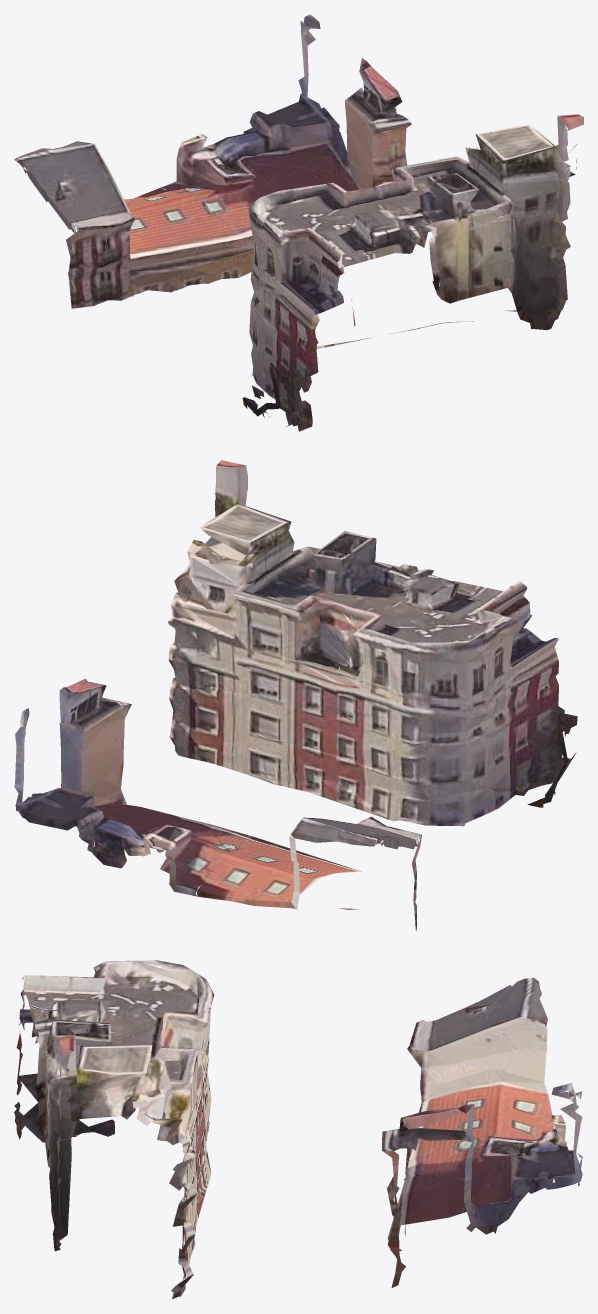
The picture shows the model from 3 angles, top to bottom: view 1: azimuth 30°, elevation 25°; view 2: azimuth 150°, elevation 25°; view 3: azimuth 270°, elevation 25°; orthographic projection. The views are drawn at different scales.
Parts seen in each view (by area): view 1: Mesh_0; view 2: Mesh_0; view 3: Mesh_0.
Part boxes in pixels (x1,y1,x2,y2): Mesh_0: (14,14,583,431); Mesh_0: (14,460,577,930); Mesh_0: (14,960,582,1299).
Size of the model in its own units: 33.3 by 20.84 by 41.62.
1 material, 1 textured.
